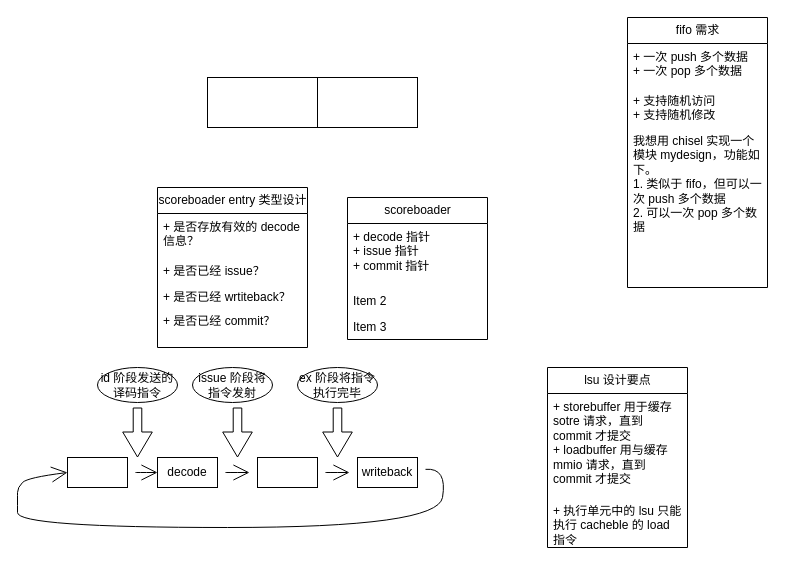
The diagram is 785 pixels wide and 568 high, and some of its shapes have lost their labels. Here are the shapes that lost their labels. From the top down, the centre of each, then its label:
At pixel 97 472: "empty".
At pixel 287 472: "issue".
